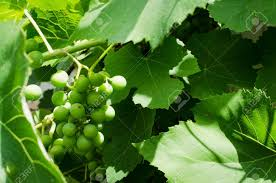grapes: (48, 71, 120, 156)
